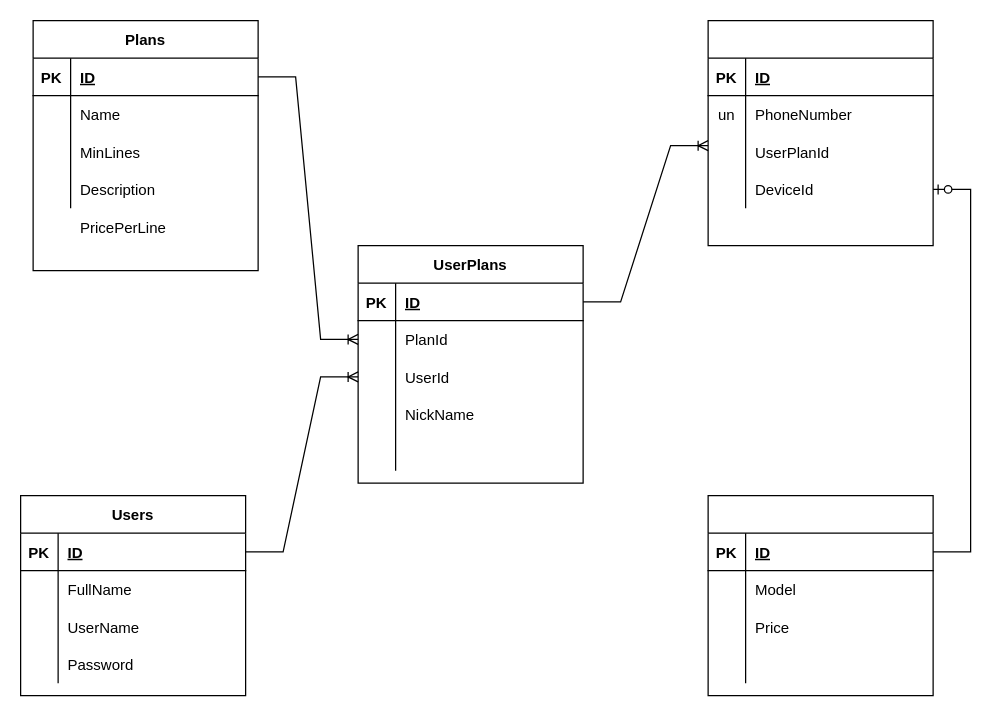
This 991x716 diagram has some shape labels left out. The box of each missing label's shape, as (x1, y1, x2, y2) in pixels:
Devices: (707, 494, 933, 696)
Lines: (707, 19, 933, 246)
